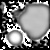node: (17, 1, 50, 40), (7, 30, 23, 46)
